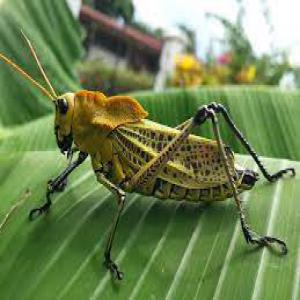locust: (12, 47, 300, 275)
